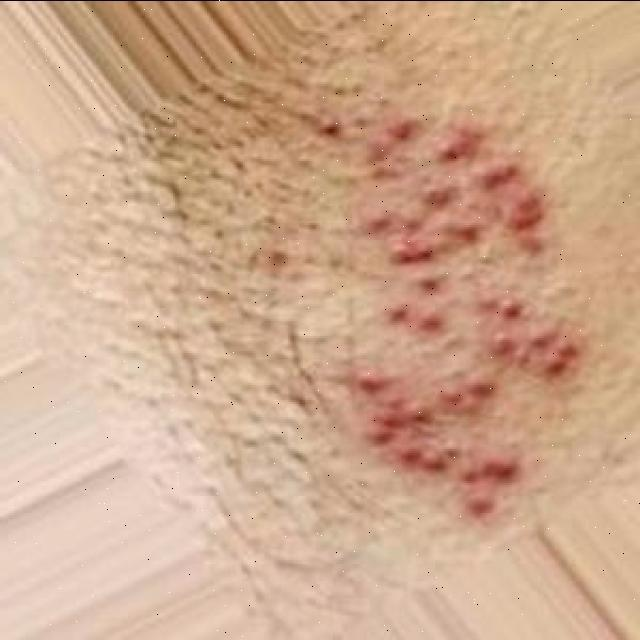Shingles: (332, 110, 586, 514)
